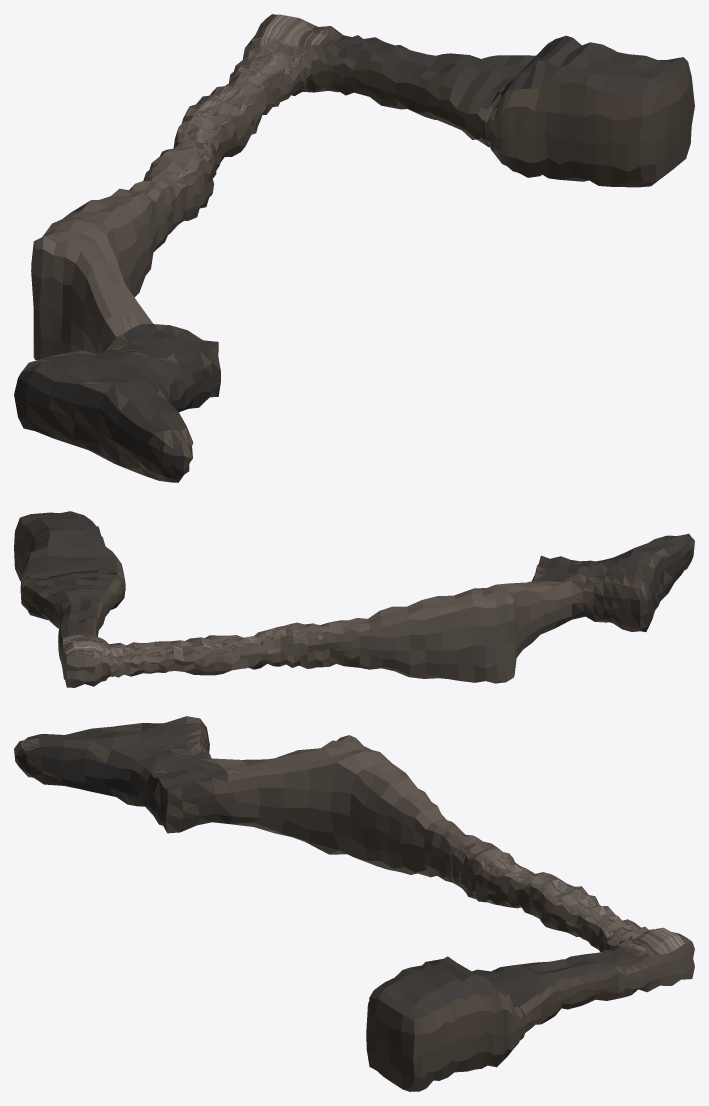
Rendered from MiddlelRockFormation.fbx.
The picture shows the model from 3 angles, top to bottom: view 1: azimuth 30°, elevation 25°; view 2: azimuth 150°, elevation 25°; view 3: azimuth 270°, elevation 25°; orthographic projection. The views are drawn at different scales.
Parts seen in each view (by area): view 1: LargeRock; view 2: LargeRock; view 3: LargeRock.
Part boxes in pixels (x1,y1,x2,y2): LargeRock: (14, 14, 694, 482); LargeRock: (14, 511, 694, 687); LargeRock: (14, 716, 694, 1091).
Size of the model in its own units: 4917 by 762 by 4448.
Materials: 1 (1 with a texture image).
